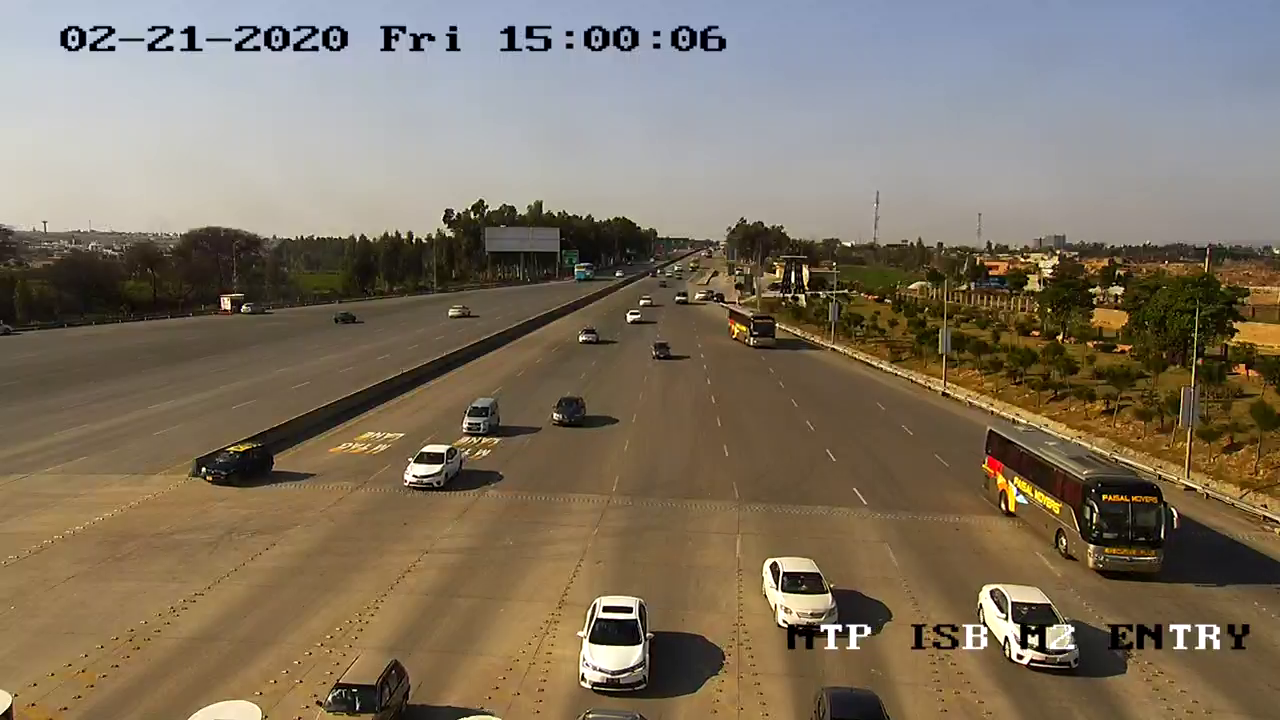f1: (572, 581, 661, 701), (754, 549, 848, 640), (303, 651, 422, 720), (392, 438, 472, 494), (454, 386, 505, 448), (545, 389, 599, 440)
f4: (969, 404, 1194, 578), (712, 297, 791, 355)
